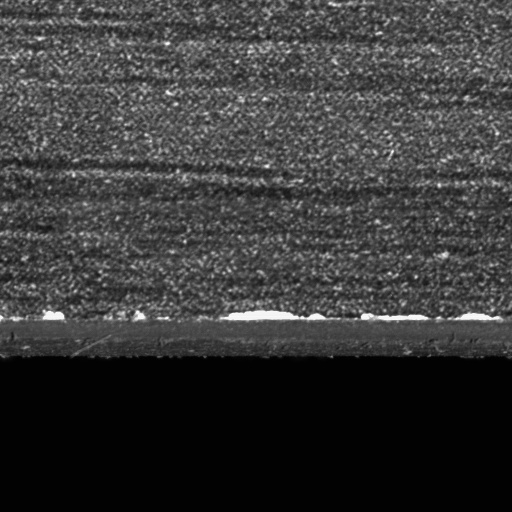huashang: (218, 309, 327, 321), (362, 311, 430, 322), (450, 312, 502, 322), (41, 310, 70, 322)
